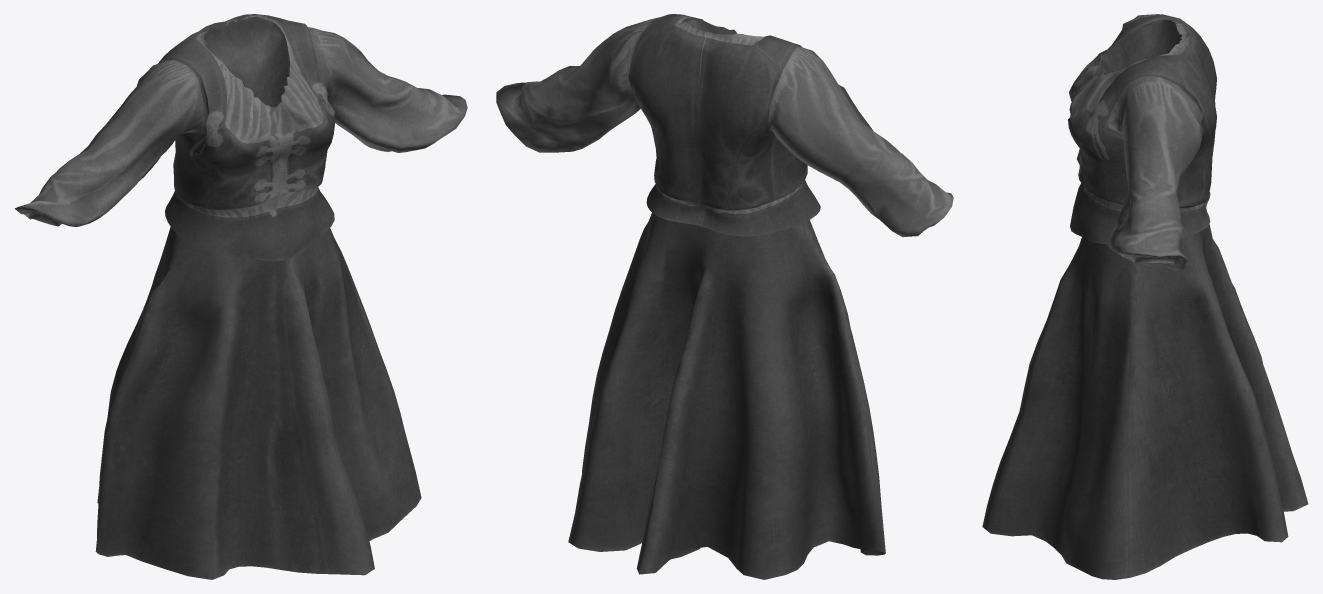
File: sk_dwarf_dress_normal_c.fbx
3 views of the same model, side by side, from view 1: azimuth 30°, elevation 25°; view 2: azimuth 150°, elevation 25°; view 3: azimuth 270°, elevation 25° (orthographic). The views are drawn at different scales.
Parts seen in each view (by area): view 1: sk_dwarf_dress_normal_c; view 2: sk_dwarf_dress_normal_c; view 3: sk_dwarf_dress_normal_c.
Boxes of the visible parts, x1=… form: sk_dwarf_dress_normal_c: x1=14, y1=14, x2=467, y2=579; sk_dwarf_dress_normal_c: x1=496, y1=14, x2=953, y2=579; sk_dwarf_dress_normal_c: x1=982, y1=14, x2=1308, y2=579.
Bounding box in the file's own units: 1.26 × 0.8243 × 1.35.
1 material, 1 textured.
